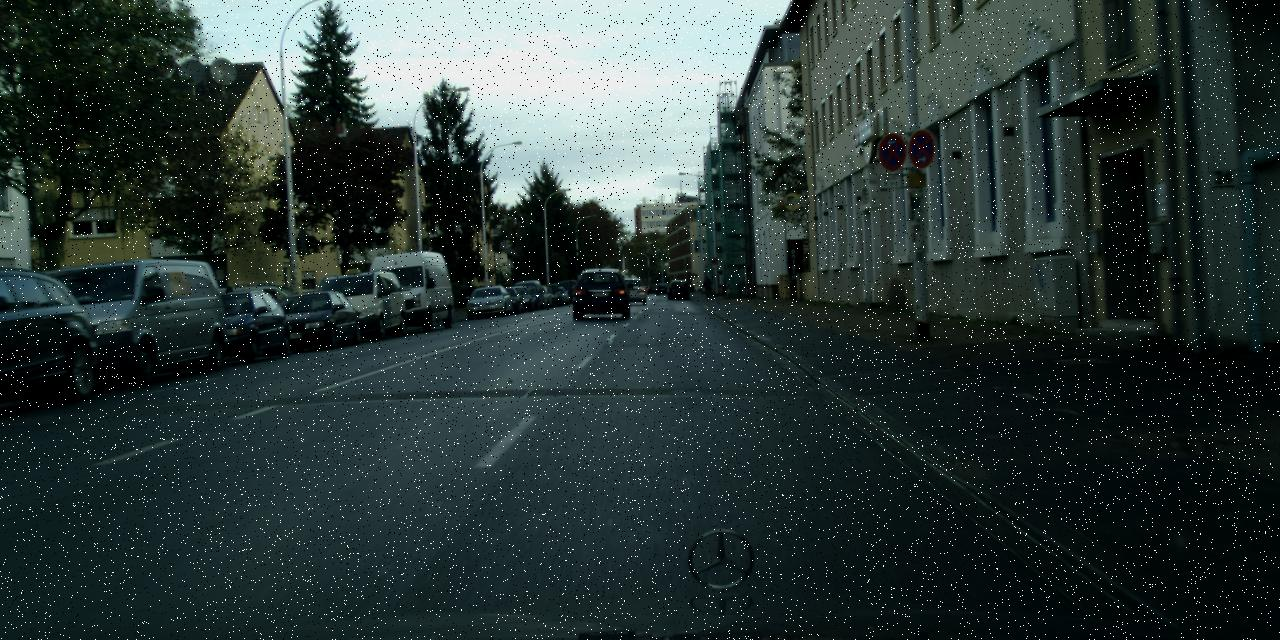ped: (214, 286, 240, 352), (702, 275, 712, 298)
